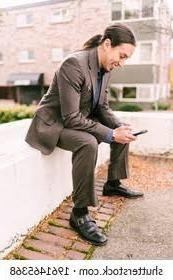Human: (32, 19, 156, 253)
